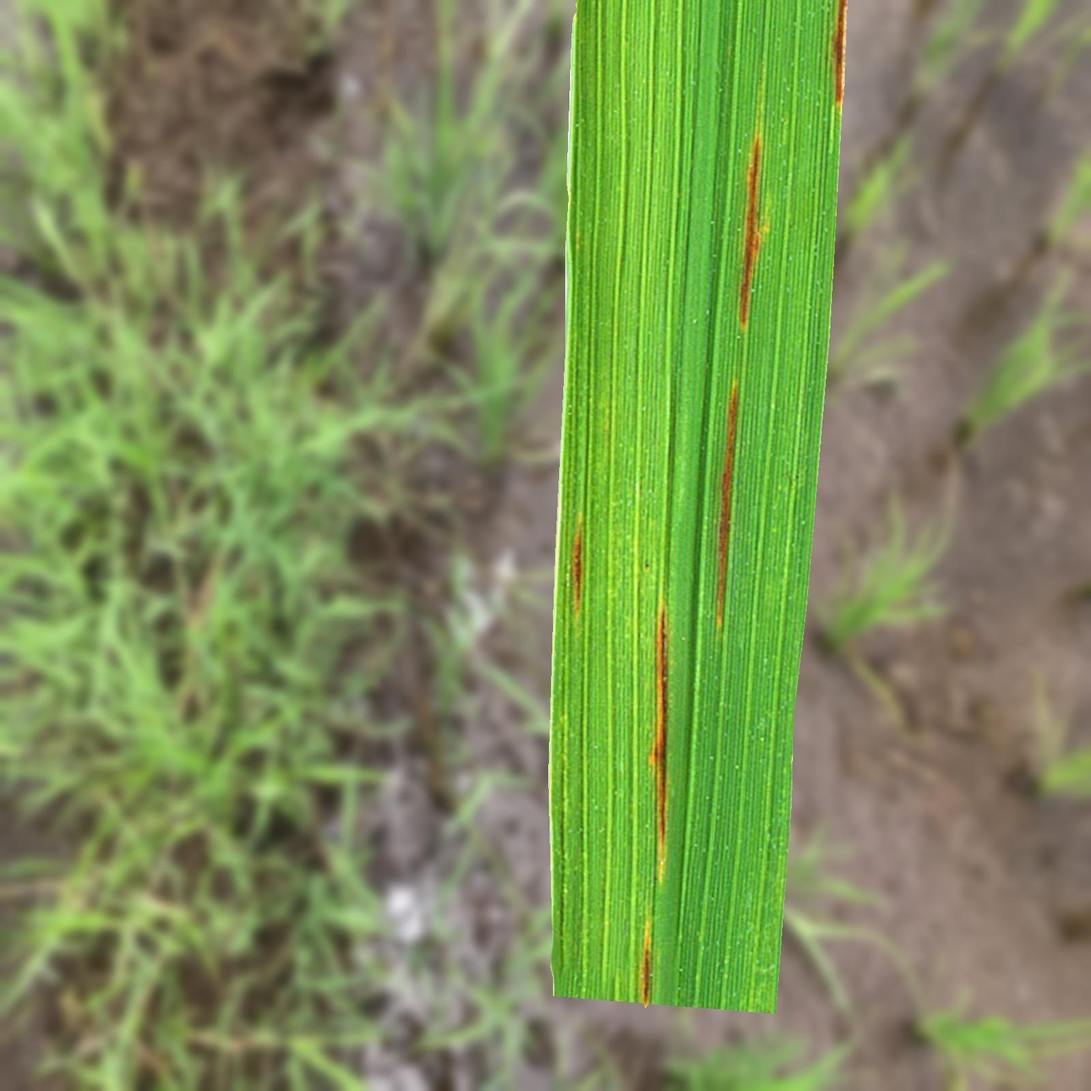LEAF: (548, 0, 845, 1014)
NBS: (739, 133, 768, 331), (649, 601, 668, 882), (717, 380, 738, 628), (832, 0, 847, 107), (571, 515, 583, 616), (641, 925, 651, 1008), (640, 921, 650, 1003)
